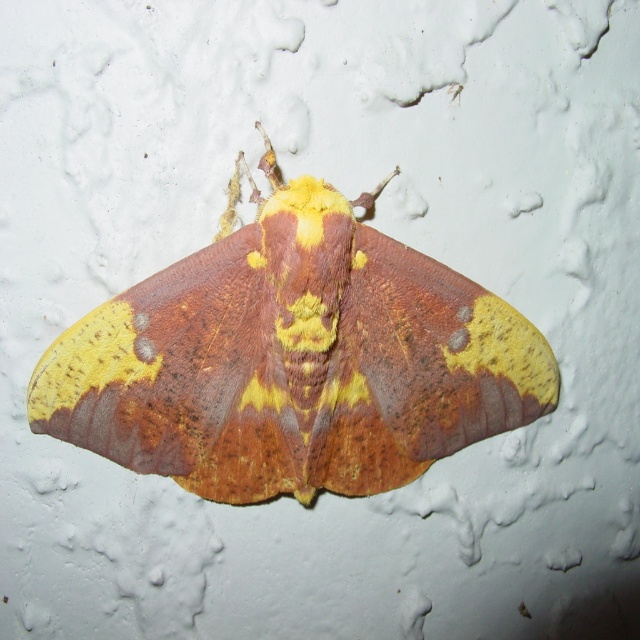Butterfly: (64, 159, 567, 531)
